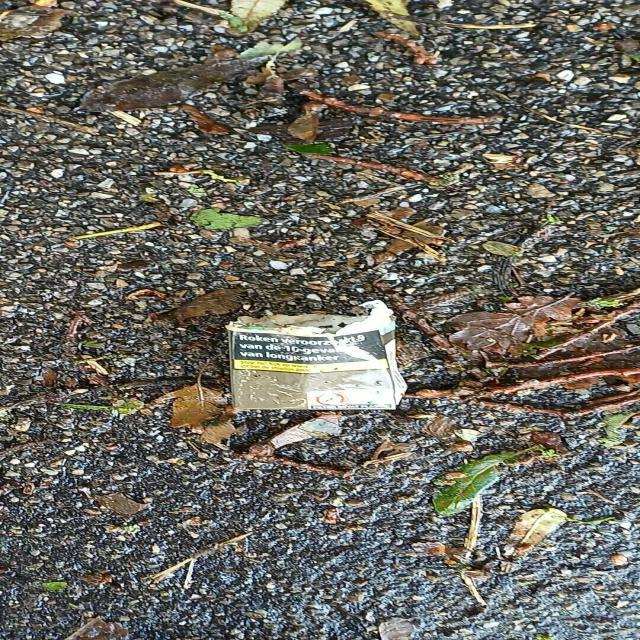Paper: (222, 298, 410, 412)
